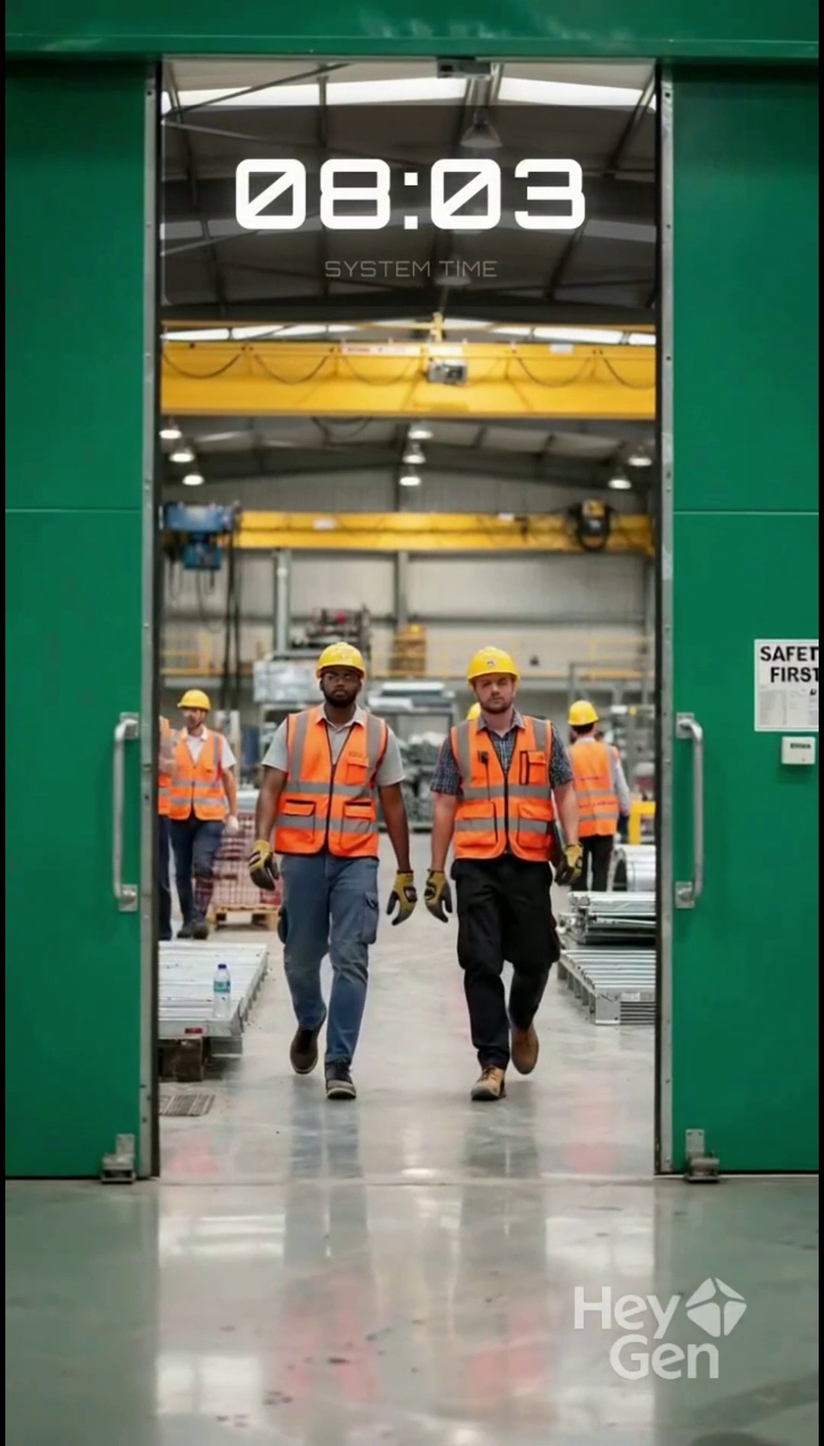Amir: (461, 652, 526, 725)
Sami: (316, 638, 369, 713)
porte_verte: (5, 3, 824, 1122)
temp: (242, 611, 400, 1122), (440, 642, 585, 1139), (199, 129, 623, 283)
